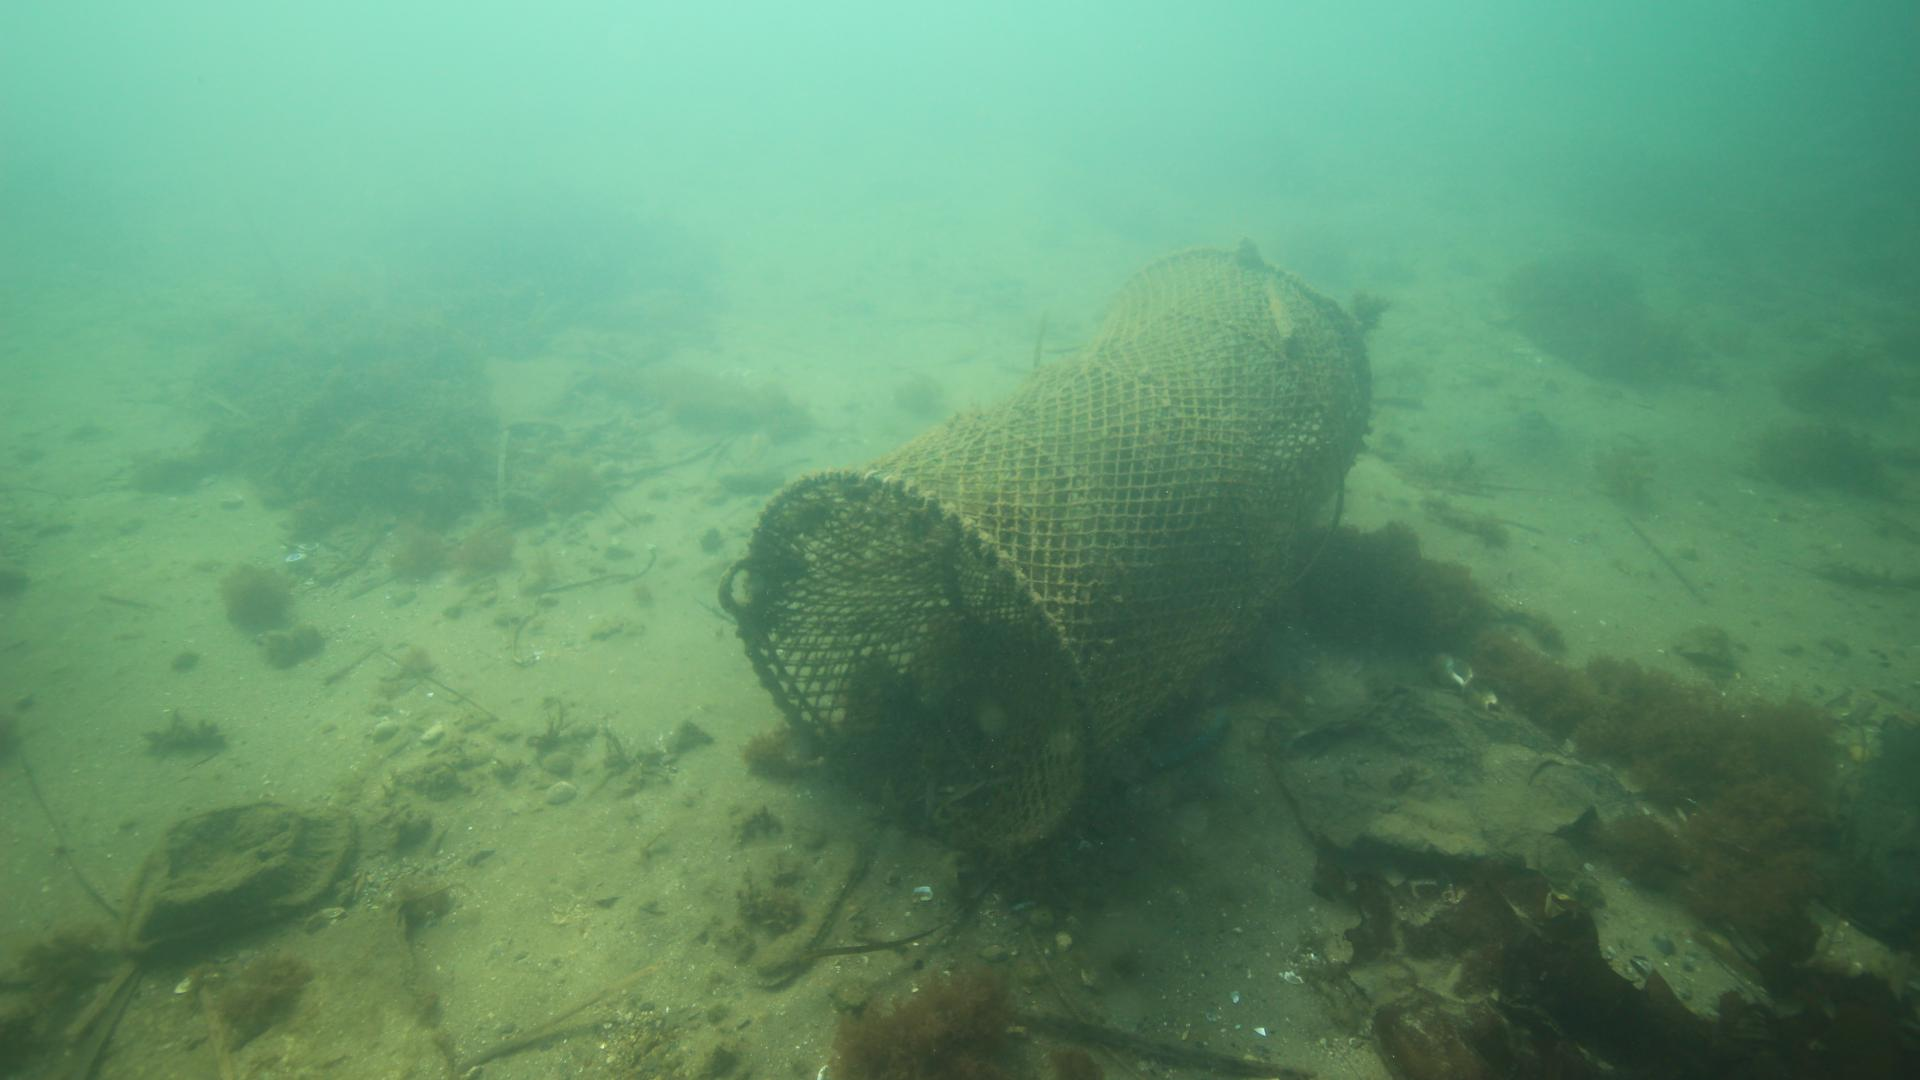spring fish trap: (732, 247, 1373, 851)
